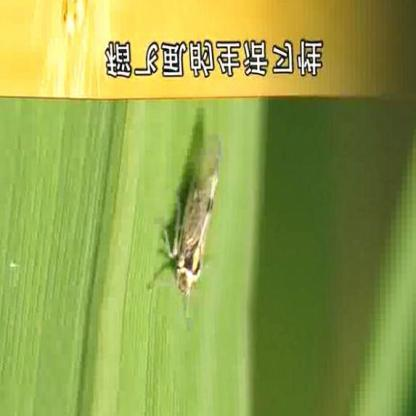brown-planthopper: (168, 134, 226, 291)
